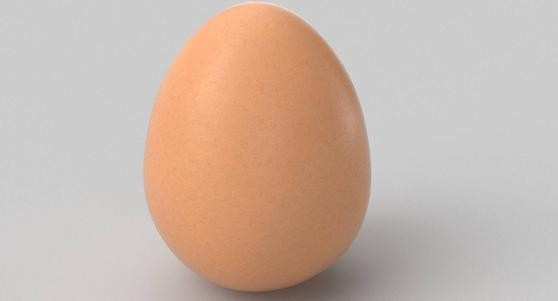egg: (147, 8, 374, 297)
